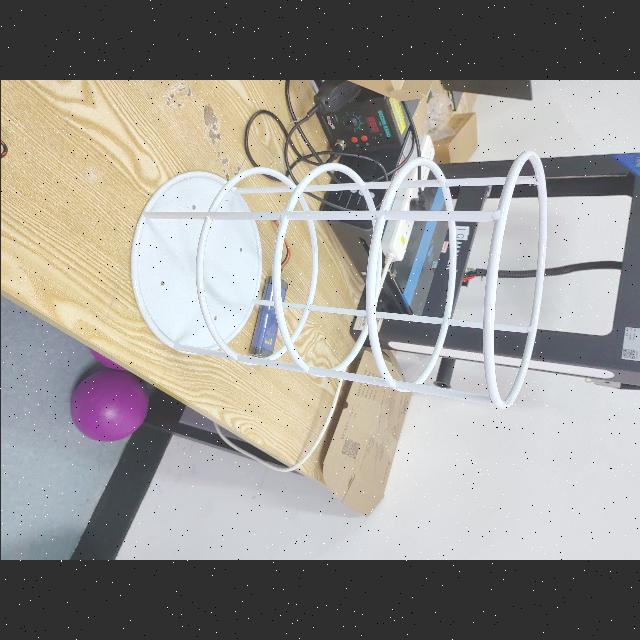S: (124, 146, 552, 414)
